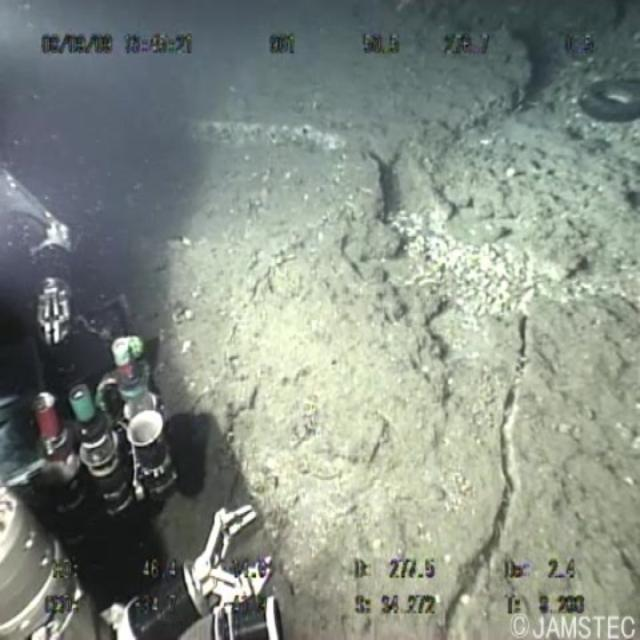Rubber: (566, 51, 640, 169)
